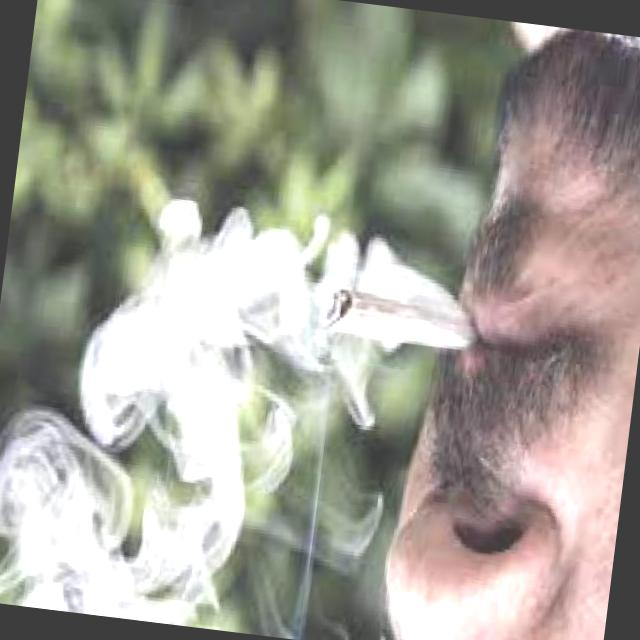smoke: (319, 287, 480, 368)
